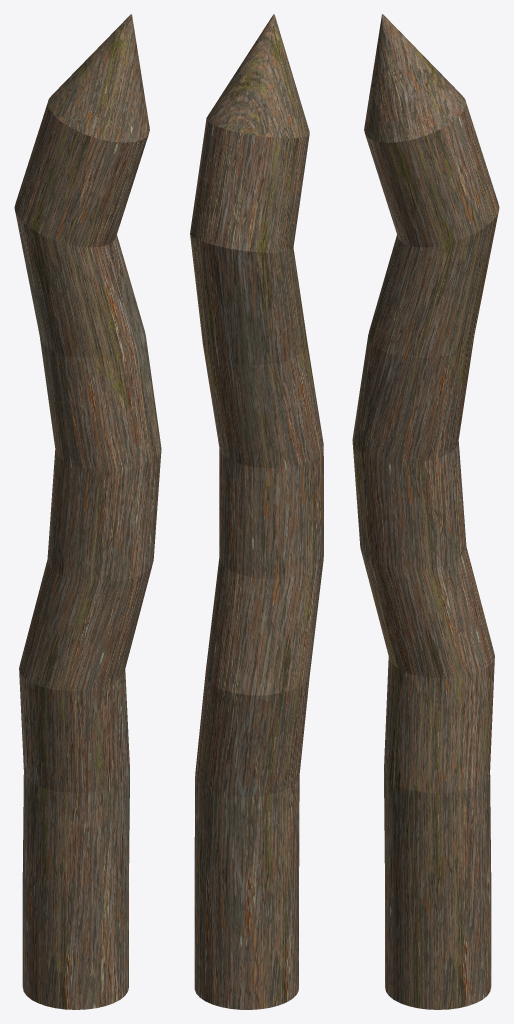
The model's file is estacamodel3.glb.
3 views of the same model, side by side, from view 1: azimuth 90°, elevation 25°; view 2: azimuth 150°, elevation 25°; view 3: azimuth 270°, elevation 25° (orthographic). The views are drawn at different scales.
Visible parts, largest first — view 1: Cilindro; view 2: Cilindro; view 3: Cilindro.
Boxes of the visible parts, x1,y1,x2,y2 form: Cilindro: (14,14,161,1009); Cilindro: (190,14,323,1009); Cilindro: (352,14,499,1009).
Size of the model in its own units: 1.28 by 11.25 by 1.54.
Materials: 1 (1 with a texture image).
